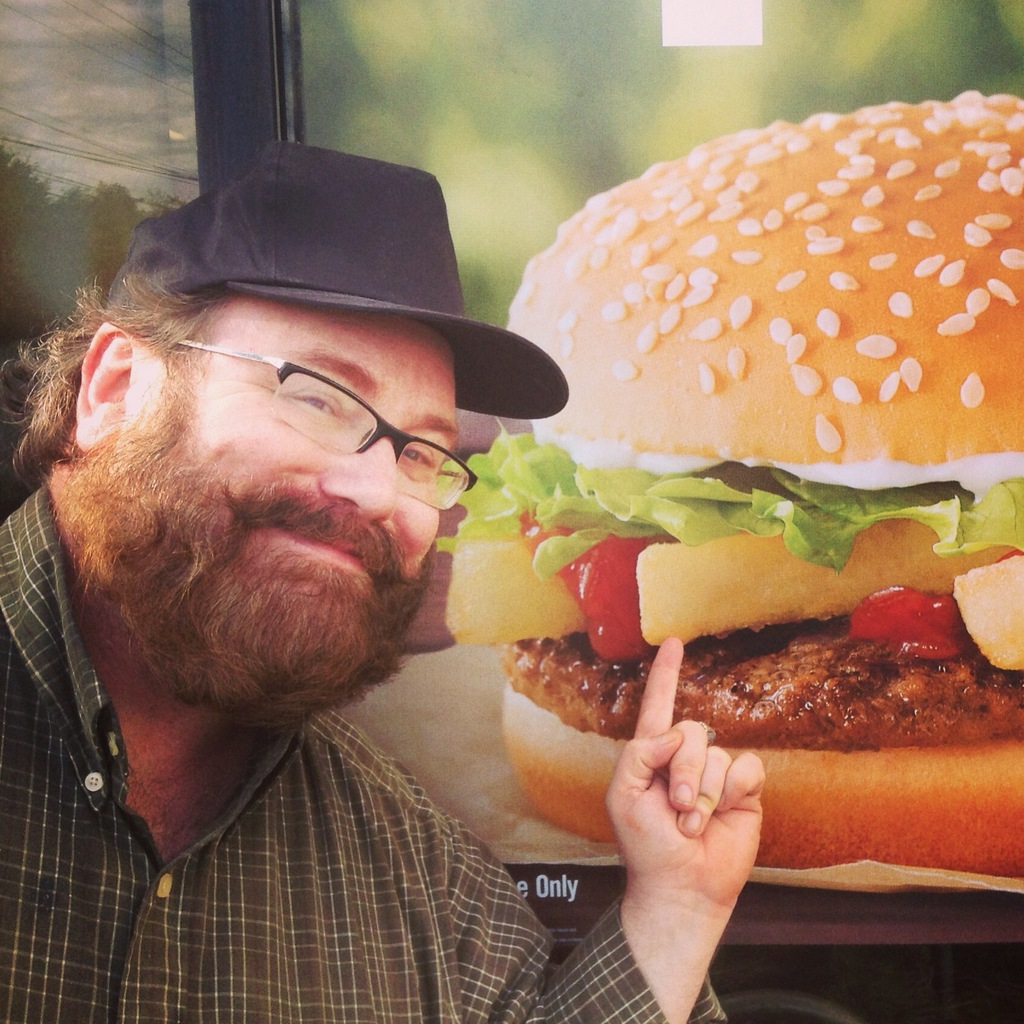Hamburger: (430, 93, 1023, 878)
